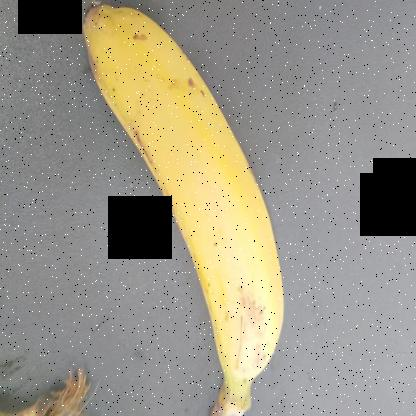ripe: (66, 1, 308, 370)
